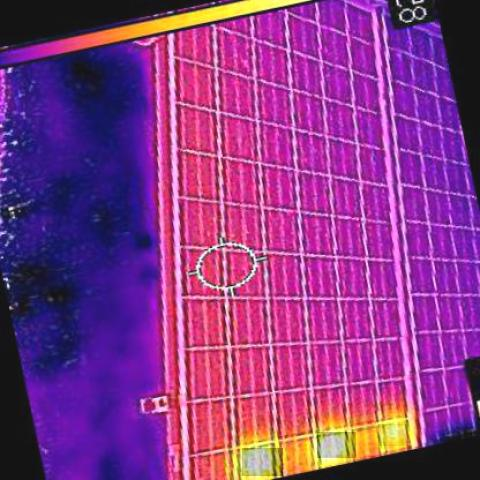fault: (242, 448, 283, 476), (317, 432, 356, 458), (378, 424, 408, 447)
